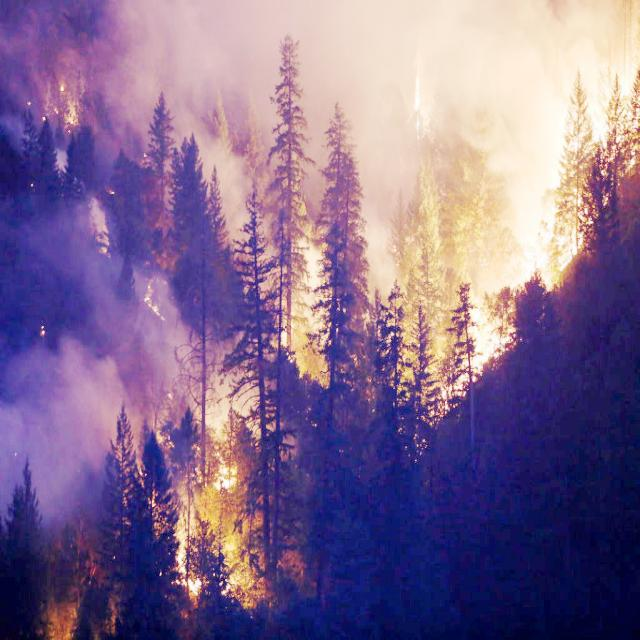api: (531, 66, 640, 161), (471, 243, 584, 282), (174, 526, 202, 596)
asap: (136, 10, 528, 104), (9, 354, 124, 527), (35, 203, 176, 342)
